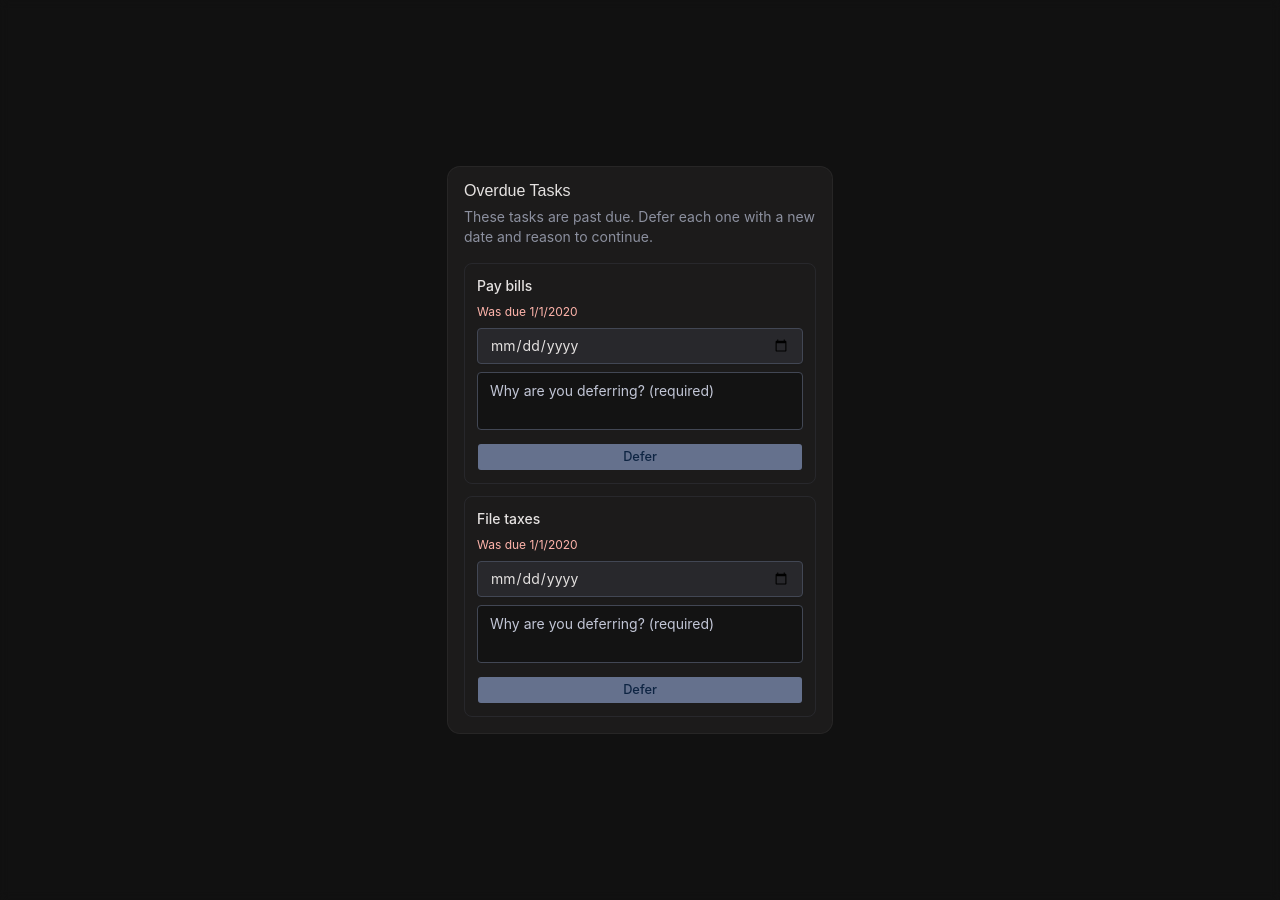
Test case: OverdueModal › requires reason before defer
# Fill in date but not reason
Type "2026-12-31" into the date field named "New due date" below "Pay bills" at (640, 346), box [477,328,803,364]
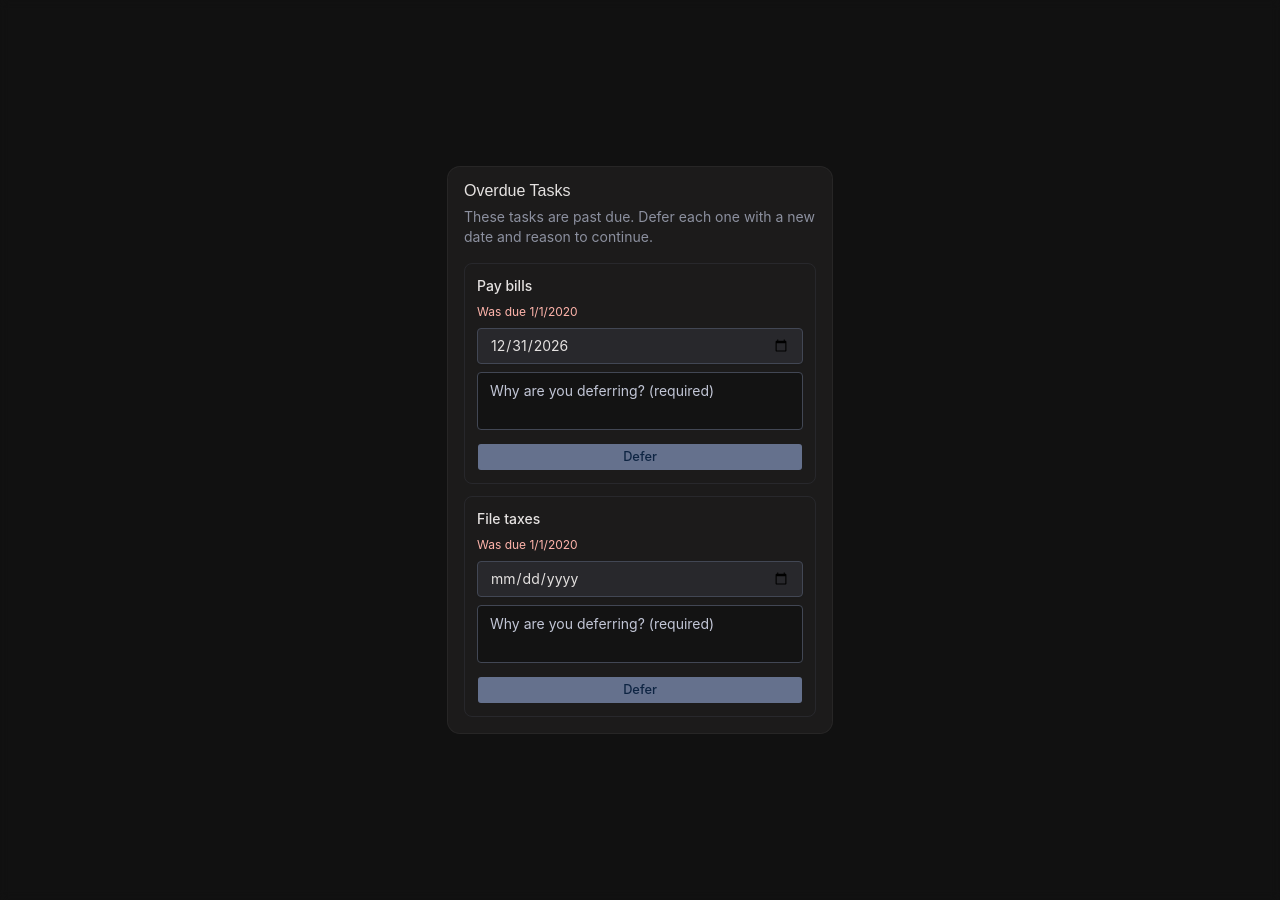
# Fill in reason
Type "Will handle next week" into the text box named "Defer reason" at (640, 401), box [477,372,803,430]
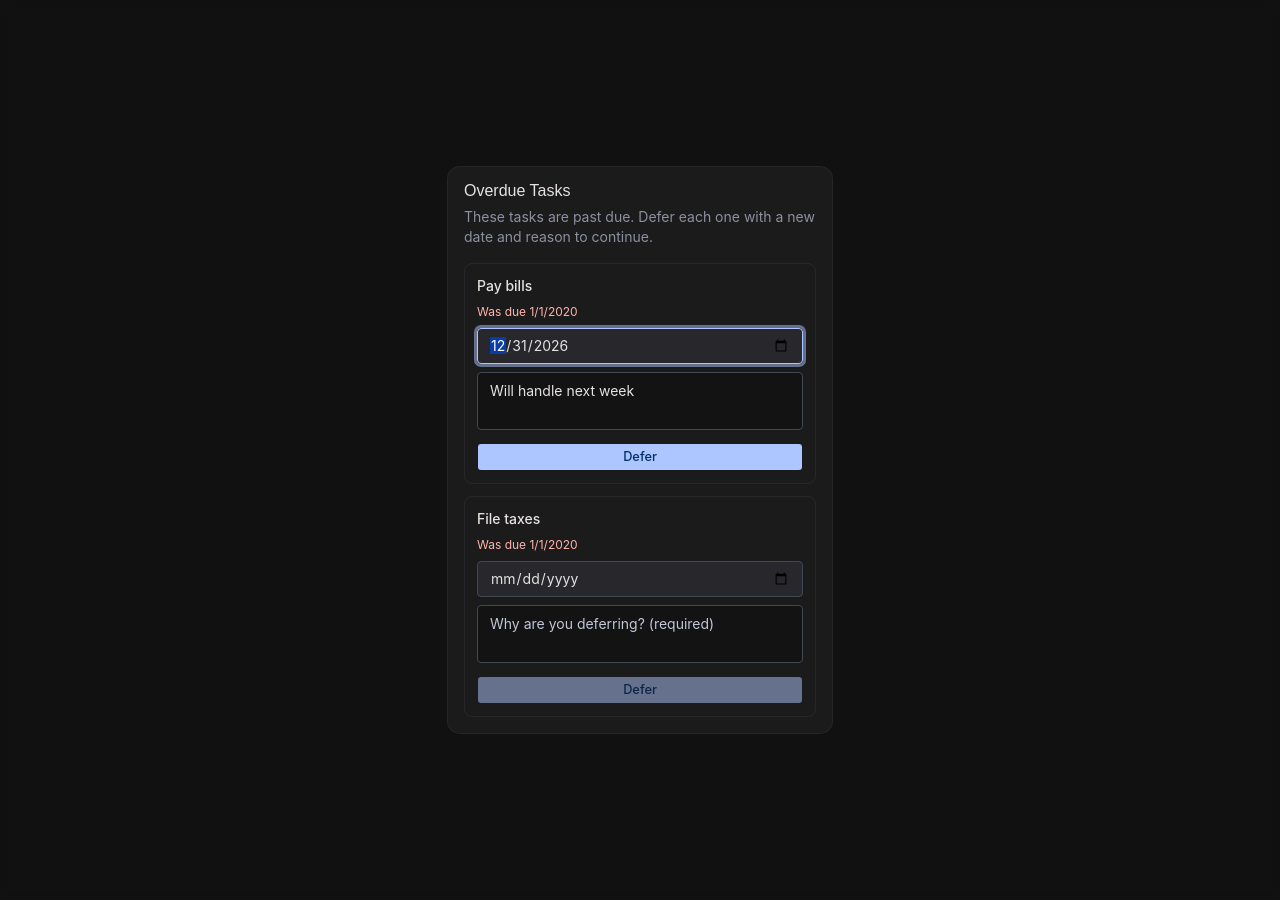
Now the button "Defer" below "Pay bills" is enabled, box [477,443,803,471]
